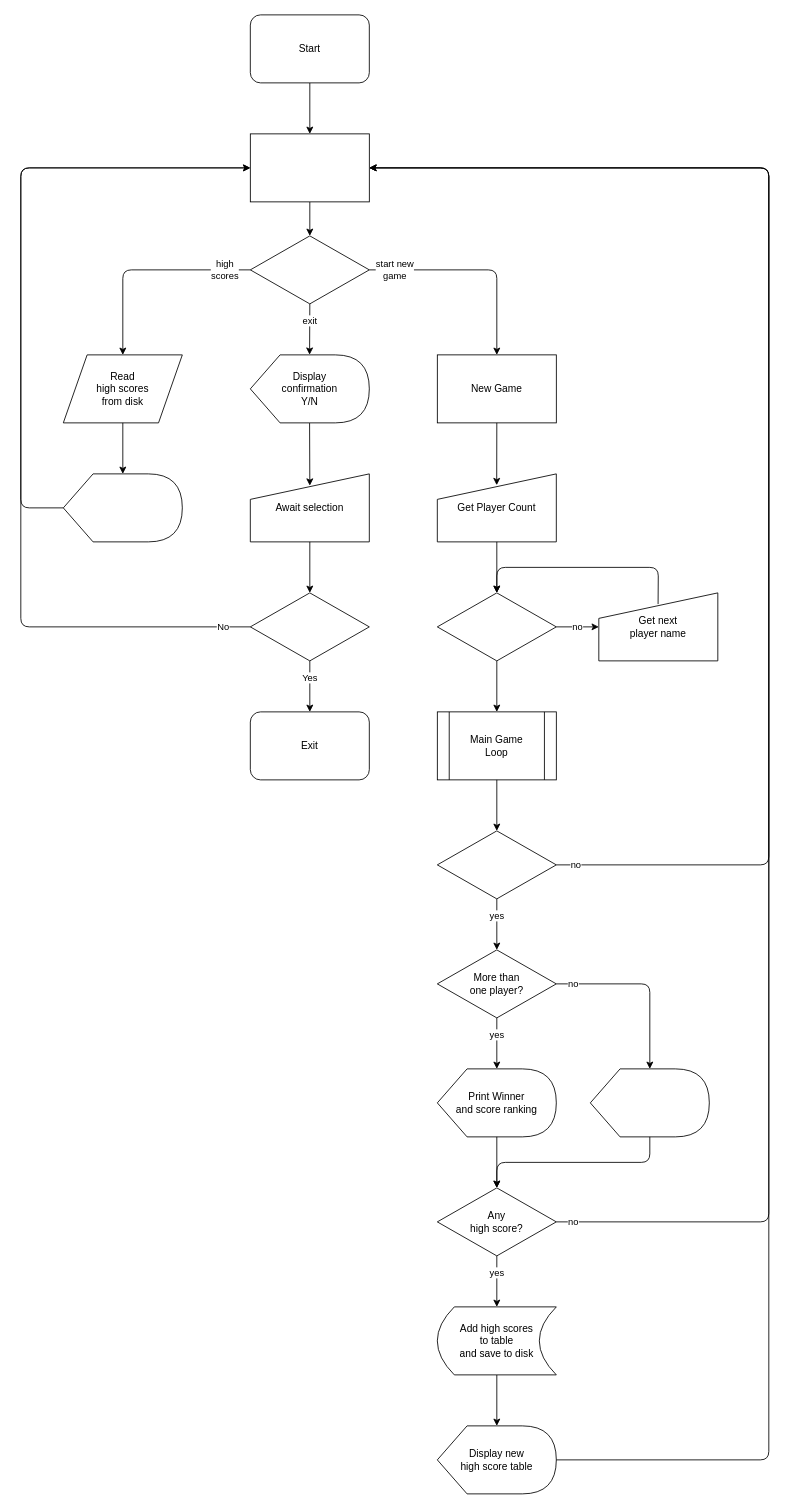
The diagram is 791 pixels wide and 1509 high, and some of its shapes have lost their labels. Here are the shapes that lost their labels. From the top down, the centre of each, then its label:
the point at 309,167: Print Title and Menu
the point at 309,269: Main Menu Options
the point at 122,507: Display High Scores
the point at 309,626: Selection?
the point at 496,626: Got all player names?
the point at 496,864: Game completed fully?
the point at 649,1102: Print congratulations and final score
